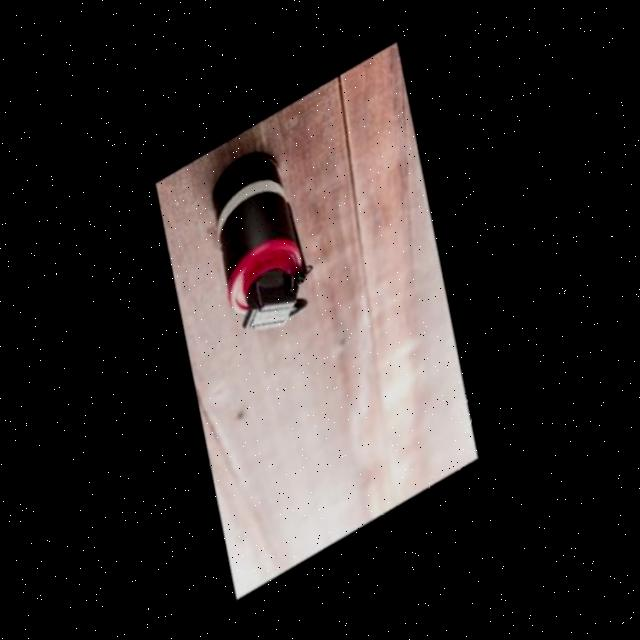grenade: (143, 117, 361, 364)
